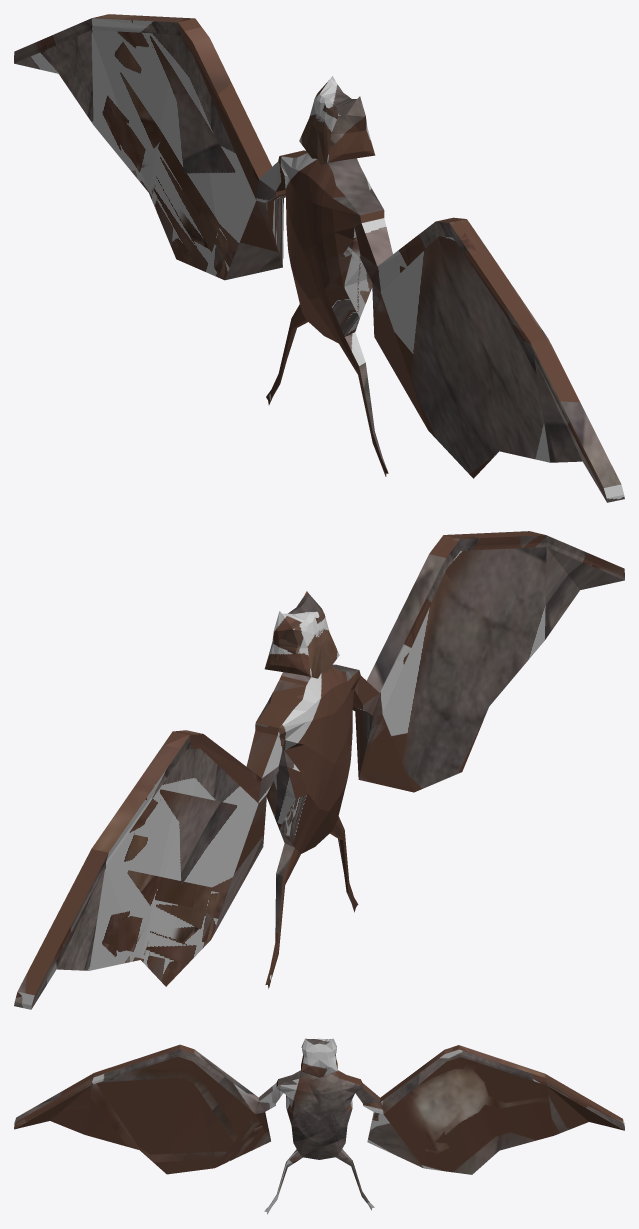
The model's file is Enemigo11.obj.
3 views of the same model, one above another, from view 1: azimuth 30°, elevation 25°; view 2: azimuth 150°, elevation 25°; view 3: azimuth 270°, elevation 25° (orthographic). The views are drawn at different scales.
Parts seen in each view (by area): view 1: Plano; view 2: Plano; view 3: Plano.
Part boxes in pixels (x1,y1,x2,y2): Plano: (14,14,624,502); Plano: (14,531,624,1009); Plano: (14,1038,624,1214).
Size of the model in its own units: 0.1274 by 0.759 by 2.34.
Materials: 1 (1 with a texture image).
